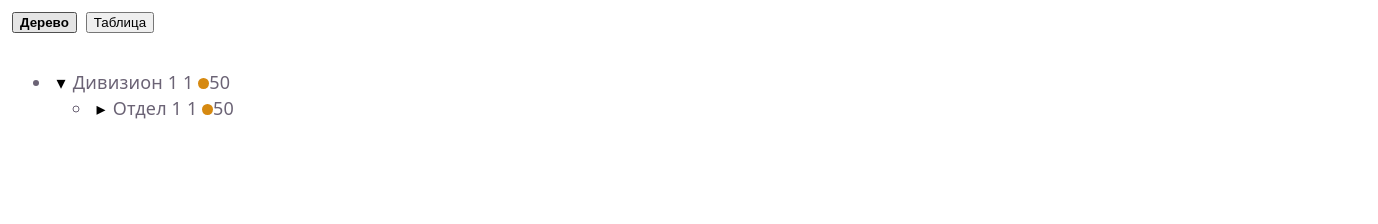
Test case: OrgTreeScreen: компоновка по ширине › AC-002-1: уже 1280px по умолчанию виден только вид «Дерево», выбор «Таблица» оставляет только таблицу
expect the element named "Дерево" is shown: met, box [56,69,234,121]
Click the button "Таблица": {"x": 120, "y": 22} [86,12,154,33]
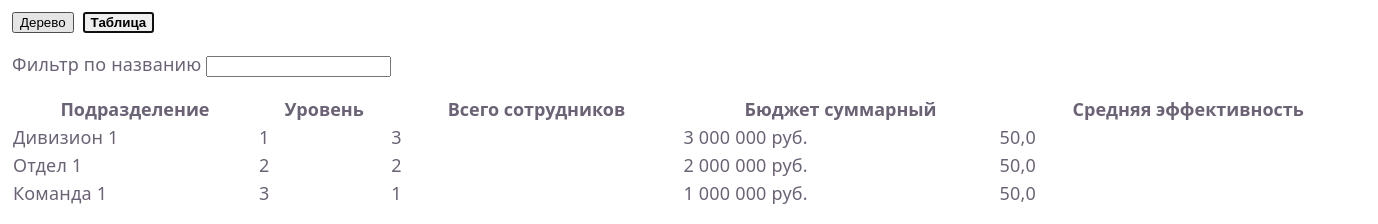
expect the element named "Таблица" is shown: met
